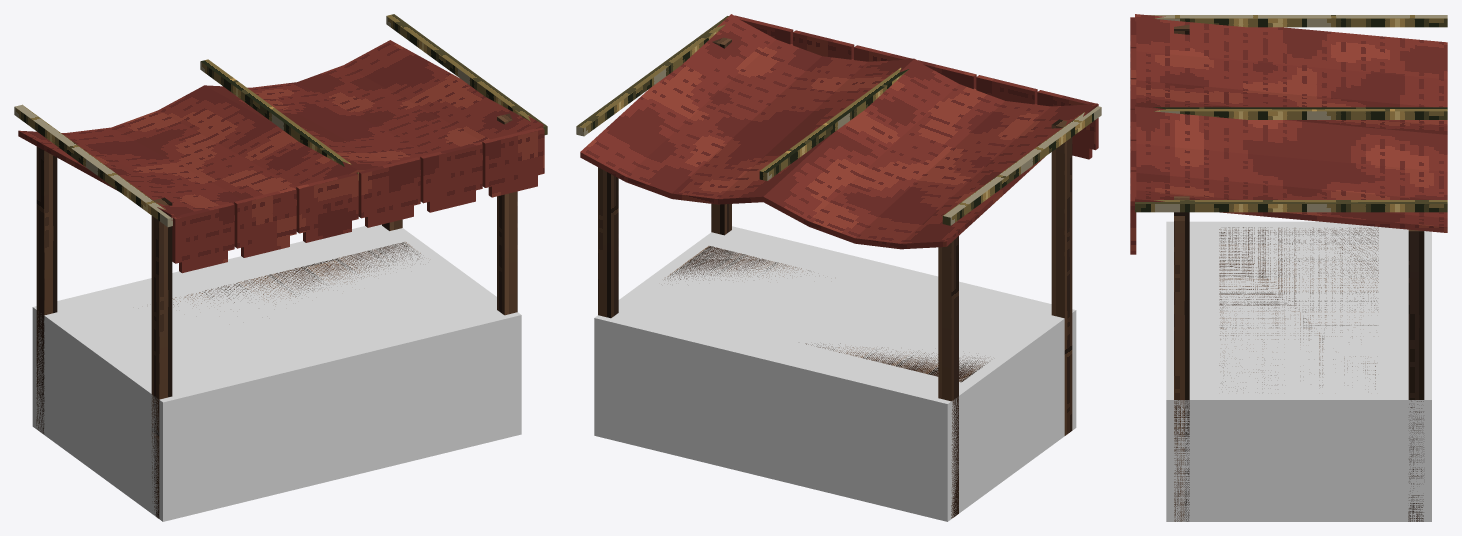
Rendered from JP_Prop_MarketStall_A.glb.
3 views of the same model, side by side, from view 1: azimuth 30°, elevation 25°; view 2: azimuth 150°, elevation 25°; view 3: azimuth 270°, elevation 25° (orthographic). The views are drawn at different scales.
Visible parts, largest first — view 1: COL_JP_Prop_MarketStall_A, JP_Prop_MarketStall_A; view 2: COL_JP_Prop_MarketStall_A, JP_Prop_MarketStall_A; view 3: JP_Prop_MarketStall_A, COL_JP_Prop_MarketStall_A.
Boxes of the visible parts, bbox=[...] form: COL_JP_Prop_MarketStall_A: bbox=[32, 224, 521, 521]; JP_Prop_MarketStall_A: bbox=[14, 14, 547, 518]; COL_JP_Prop_MarketStall_A: bbox=[594, 226, 1076, 521]; JP_Prop_MarketStall_A: bbox=[576, 14, 1101, 518]; JP_Prop_MarketStall_A: bbox=[1130, 14, 1447, 521]; COL_JP_Prop_MarketStall_A: bbox=[1166, 221, 1431, 521].
Bounding box in the file's own units: 2.86 × 2.3 × 2.03.
3 materials, 3 textured.
